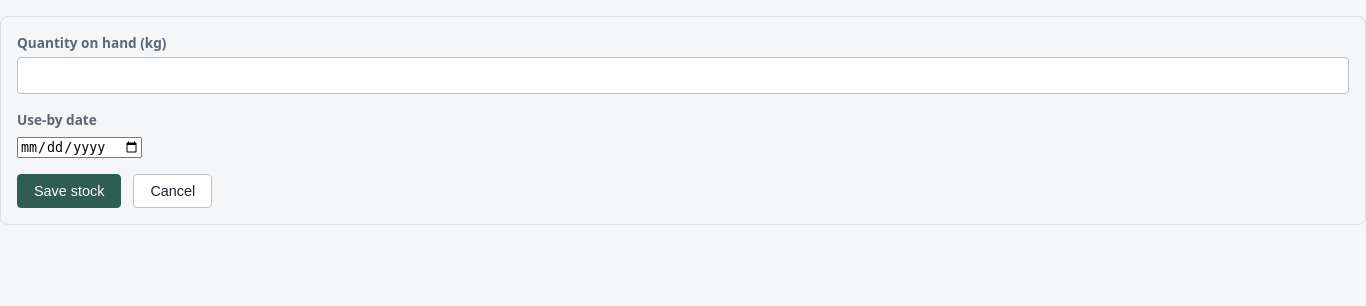
Test: CurrentStockForm › blocks submit with an inline error when quantity is blank
This screenshot has width=1366, height=306.
Click the button "Save stock" at (69, 191), box [17,174,121,208]
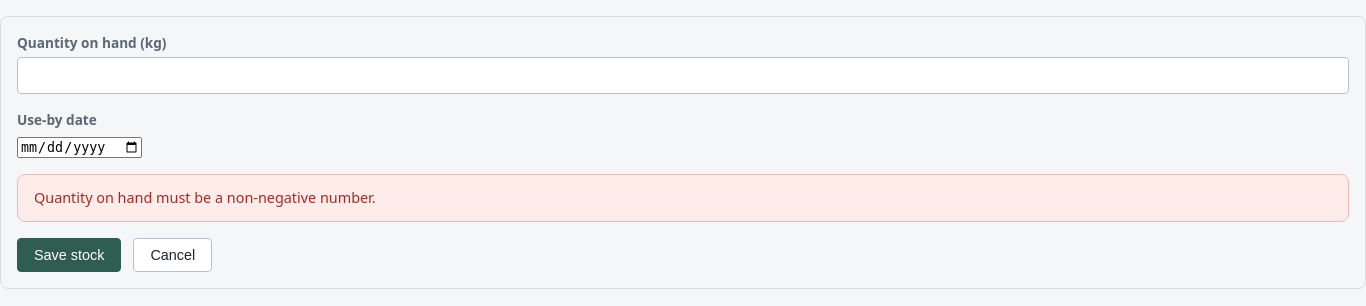
Now the message shows "non-negative", box [34,188,376,207]
